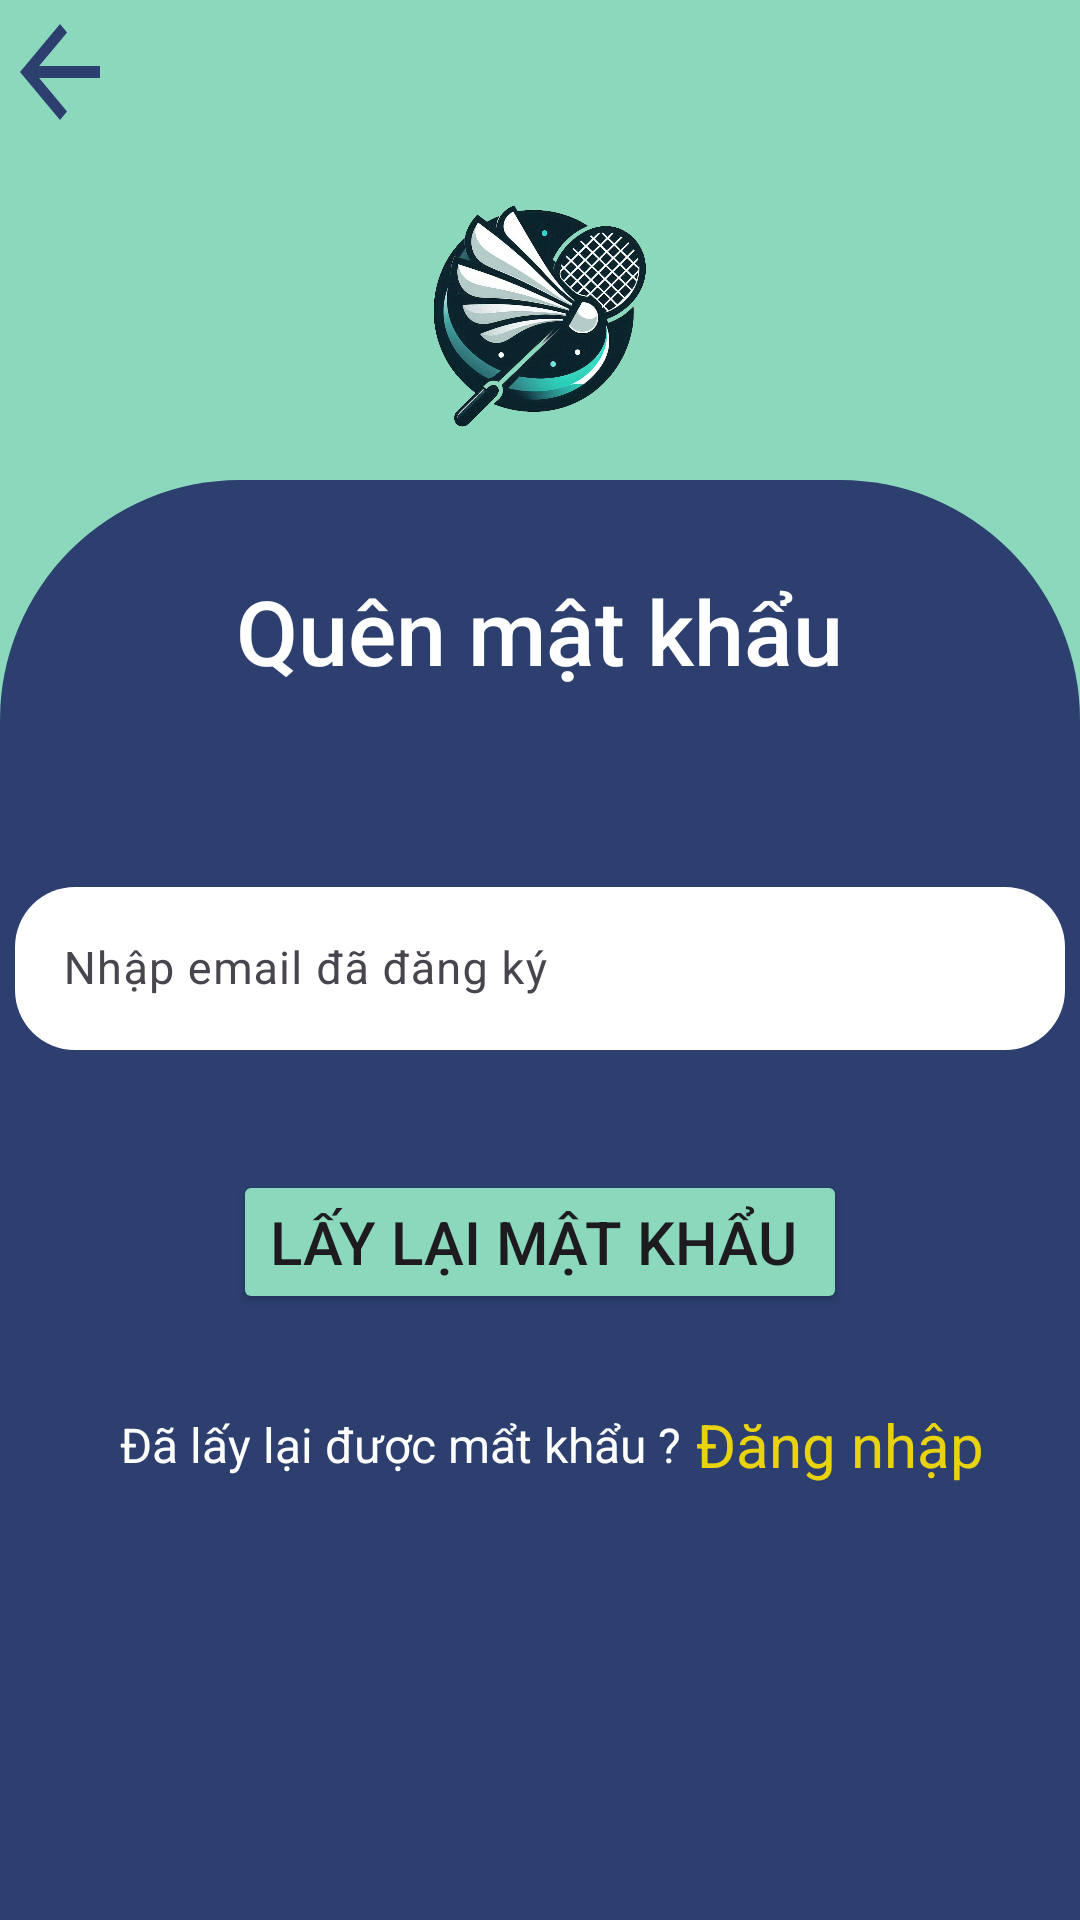

Locate icon controls on the screen. Image size 1080 × 1920, boxes as (x1, y1, x2, y2).
back: (20, 24, 100, 120)
